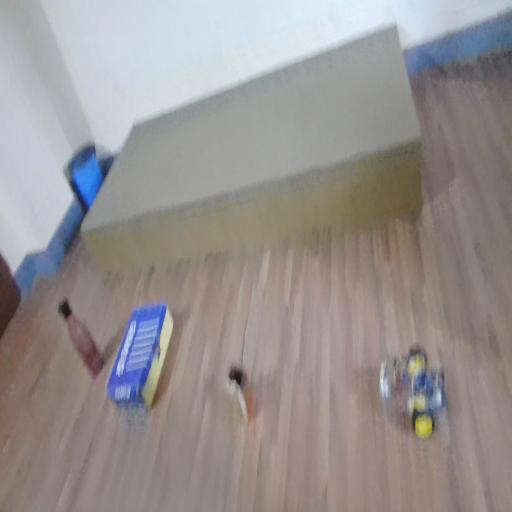Bottle: (53, 288, 110, 378)
car: (369, 333, 462, 446)
